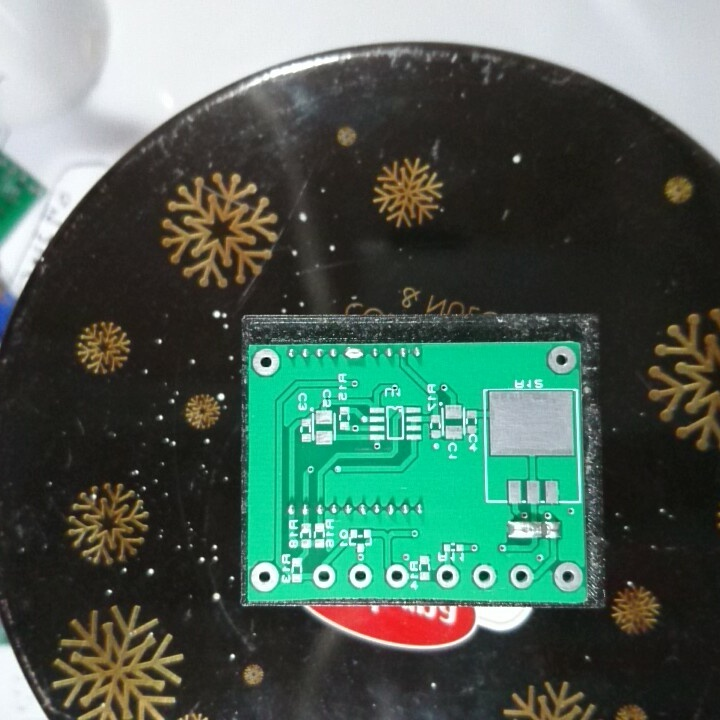F: (551, 560, 585, 595), (249, 560, 282, 593), (250, 346, 283, 379), (546, 345, 579, 376), (507, 562, 535, 591), (469, 563, 497, 592), (347, 562, 374, 591), (310, 563, 339, 590), (384, 561, 410, 591), (434, 563, 461, 590)
P: (505, 518, 543, 542), (342, 345, 367, 363)
